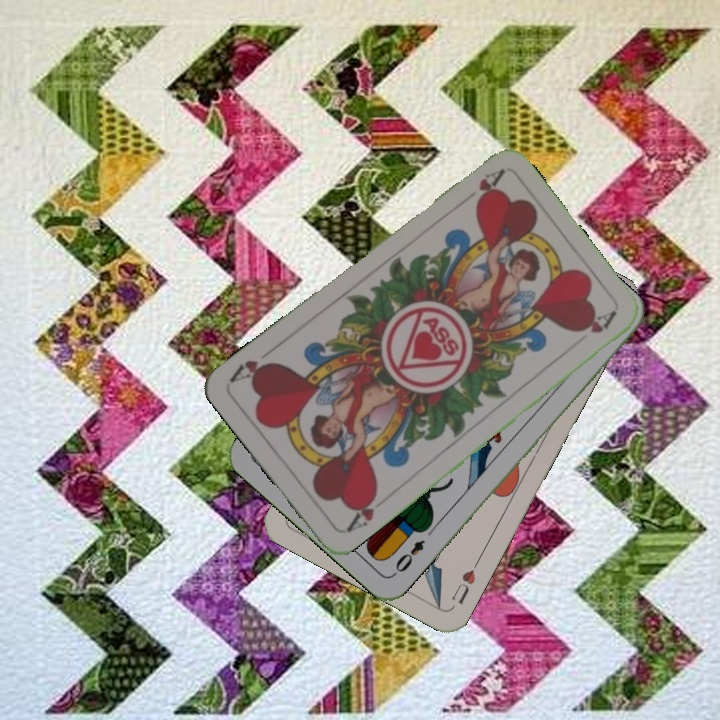EO: (389, 535, 428, 579)
HA: (342, 488, 380, 535), (470, 165, 506, 210)
HU: (447, 555, 482, 608)
